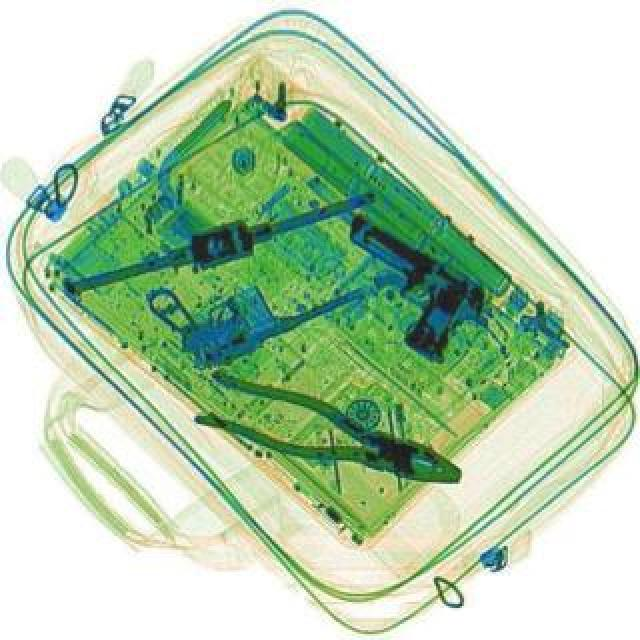gun: (144, 214, 364, 382), (306, 208, 506, 372)
wrench: (192, 366, 472, 502)
